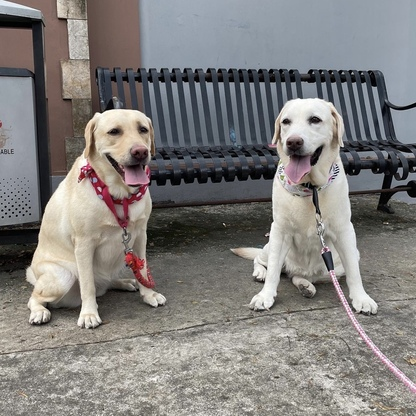labrado: (228, 93, 381, 320), (21, 104, 170, 332)
